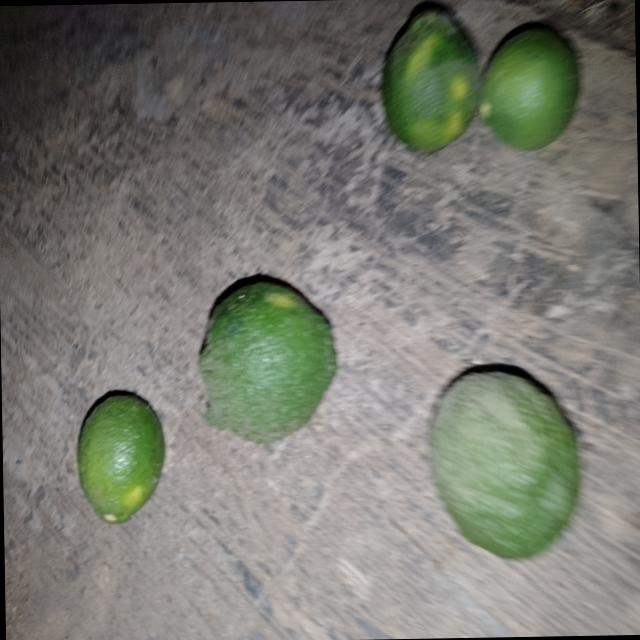agrume: (421, 346, 591, 574), (174, 256, 350, 458), (367, 0, 485, 167), (467, 14, 589, 150)
